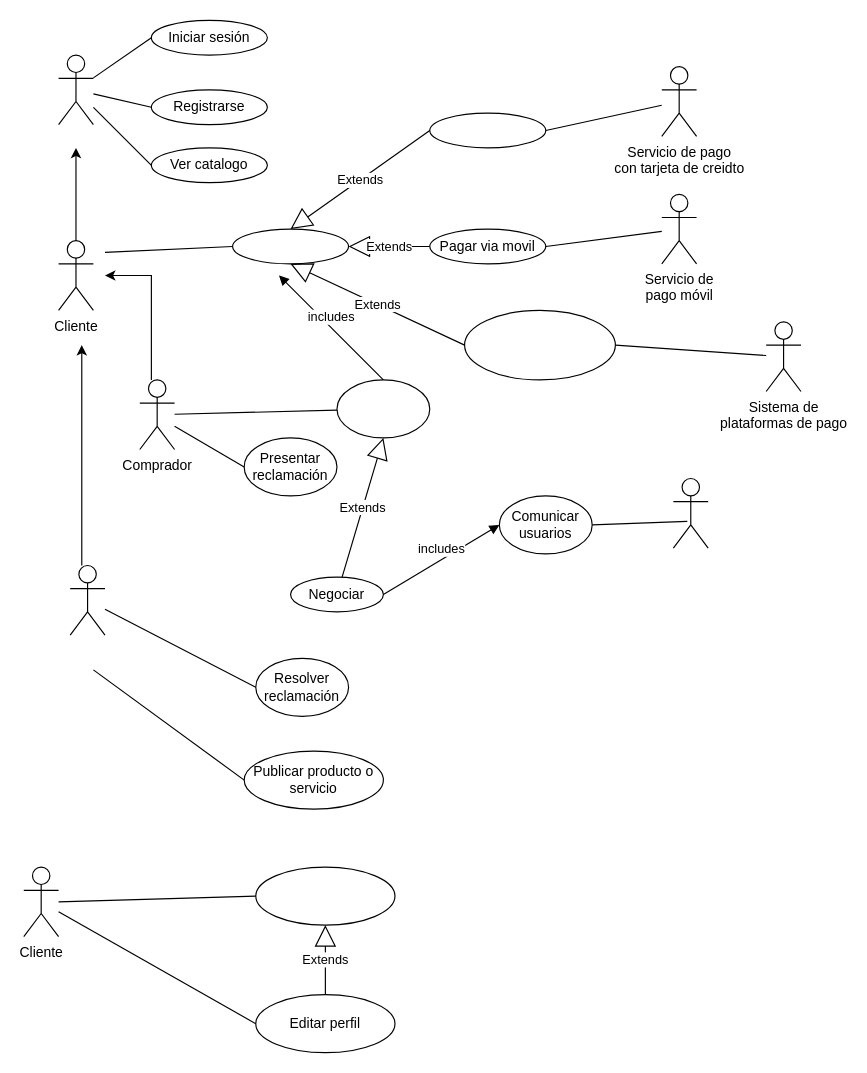
The diagram is 867 pixels wide and 1073 high, and some of its shapes have lost their labels. The shapes that lost their labels are listed below. From the top down, each one's centre as x and y in pixels, then its label:
At [75,89]: "Usuario".
At [487,130]: "Pagar con tarjeta".
At [290,246]: "Realizar transacción".
At [539,344]: "Pagar usando plataforma de pago".
At [383,408]: "Comprar producto o servicio".
At [690,512]: "Sistema de mensajería".
At [87,599]: "Vendedor".
At [325,895]: "Ver perfil".
